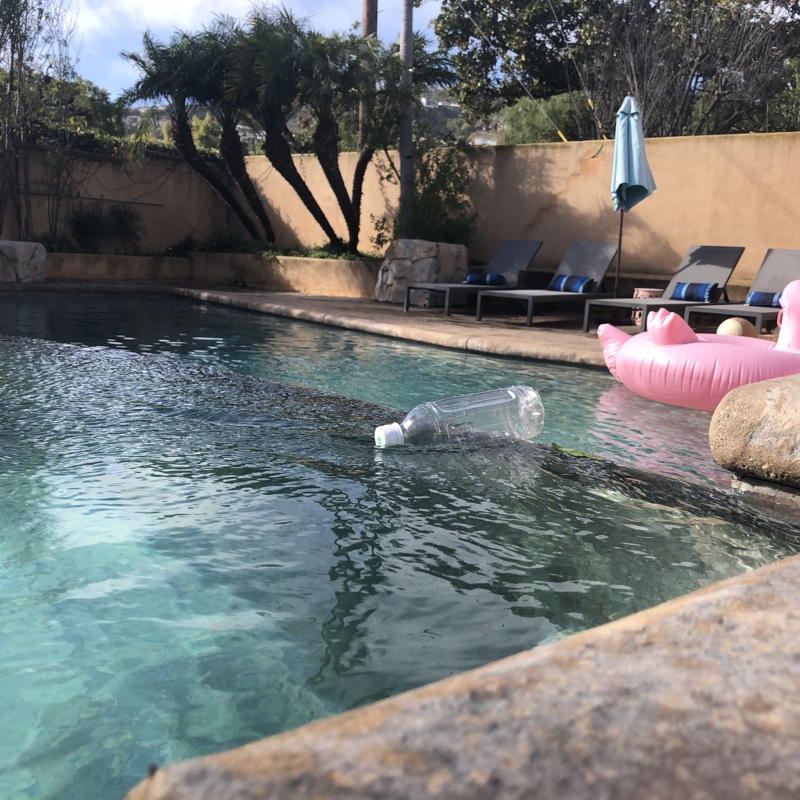Plastic Bottle: (364, 381, 548, 454)
